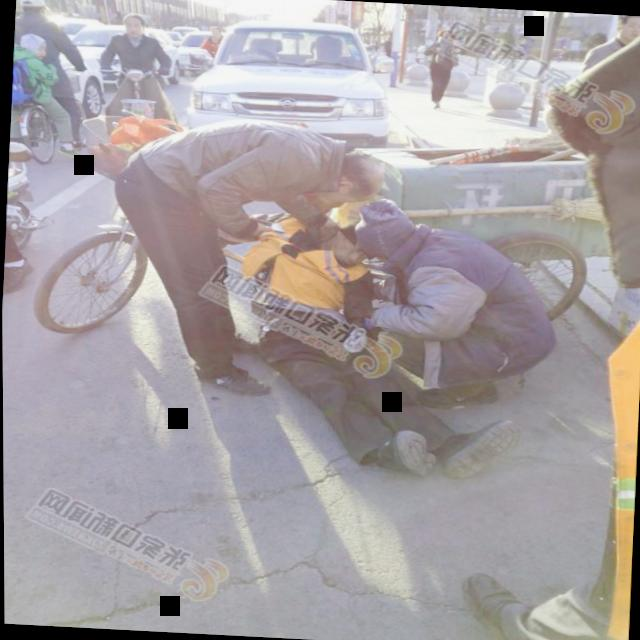Fall-Detected: (224, 224, 559, 486)
